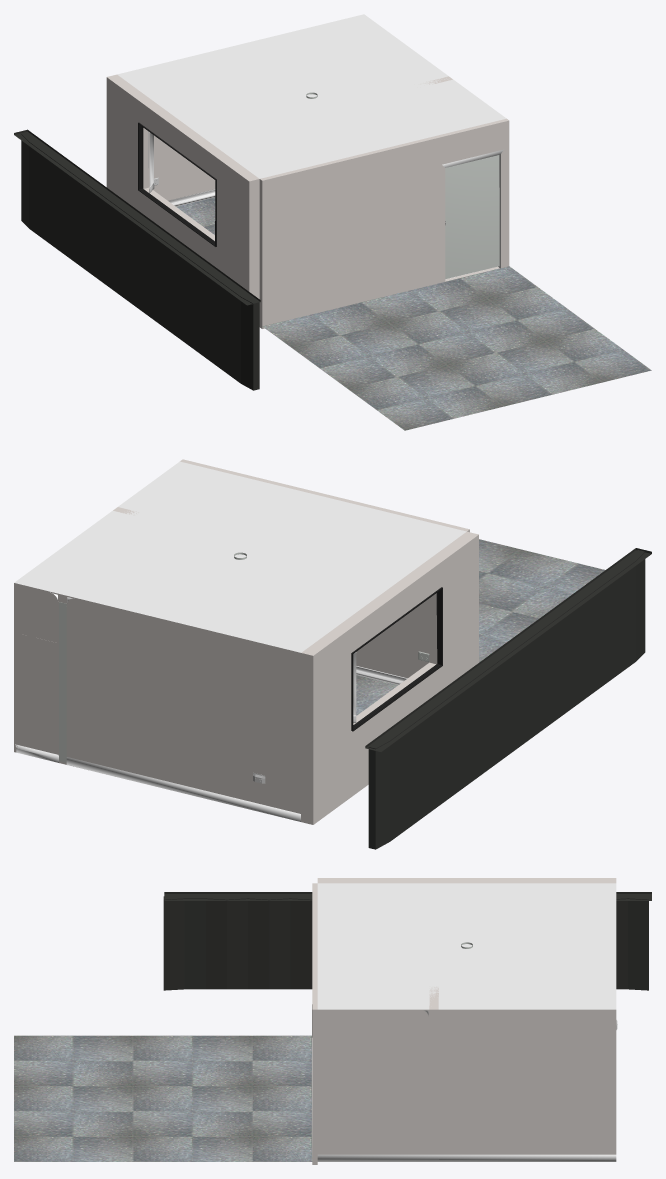
Rendered from emptyroom.glb.
3 views of the same model, one above another, from view 1: azimuth 30°, elevation 25°; view 2: azimuth 150°, elevation 25°; view 3: azimuth 270°, elevation 25° (orthographic). The views are drawn at different scales.
Visible parts, largest first — view 1: floor.002, floor.001, walls.003, Cube.003, walls, door, walls.001, window-frame, corners, floor; view 2: floor.001, walls.001, Cube.003, walls, floor.002, walls.003, corners, window-frame, Plane.005, floor; view 3: walls.002, floor.001, floor.002, Cube.003, corners, walls, walls.003.
Part boxes in pixels (left/top/right/bottom): floor.002: left=262, top=266, right=651, bottom=430; floor.001: left=117, top=14, right=506, bottom=178; walls.003: left=259, top=118, right=509, bottom=328; Cube.003: left=14, top=129, right=260, bottom=390; walls: left=106, top=74, right=452, bottom=298; door: left=445, top=155, right=499, bottom=278; walls.001: left=153, top=135, right=215, bottom=200; window-frame: left=138, top=122, right=216, bottom=246; corners: left=168, top=149, right=504, bottom=268; floor: left=176, top=197, right=215, bottom=234; floor.001: left=14, top=461, right=466, bottom=652; walls.001: left=14, top=583, right=300, bottom=813; Cube.003: left=365, top=548, right=651, bottom=849; walls: left=14, top=507, right=478, bottom=824; floor.002: left=479, top=539, right=605, bottom=662; walls.003: left=180, top=459, right=469, bottom=678; corners: left=15, top=592, right=407, bottom=821; window-frame: left=351, top=587, right=442, bottom=731; Plane.005: left=59, top=602, right=66, bottom=762; floor: left=356, top=675, right=397, bottom=715; walls.002: left=317, top=1009, right=616, bottom=1154; floor.001: left=317, top=883, right=616, bottom=1009; floor.002: left=14, top=1035, right=312, bottom=1161; Cube.003: left=163, top=892, right=651, bottom=990; corners: left=312, top=1004, right=616, bottom=1161; walls: left=317, top=878, right=616, bottom=1009; walls.003: left=312, top=883, right=317, bottom=1164.
Size of the model in its own units: 26.96 by 11.6 by 42.74.
Materials: 12 (1 with a texture image).
